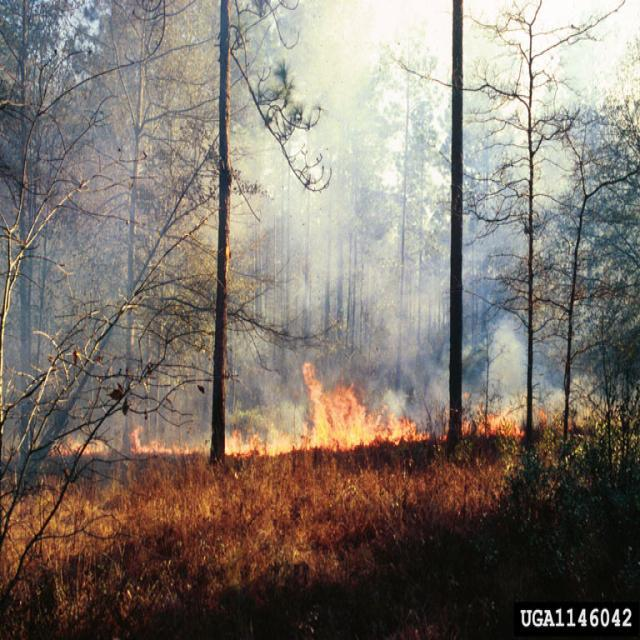Fire: (128, 358, 526, 461)
